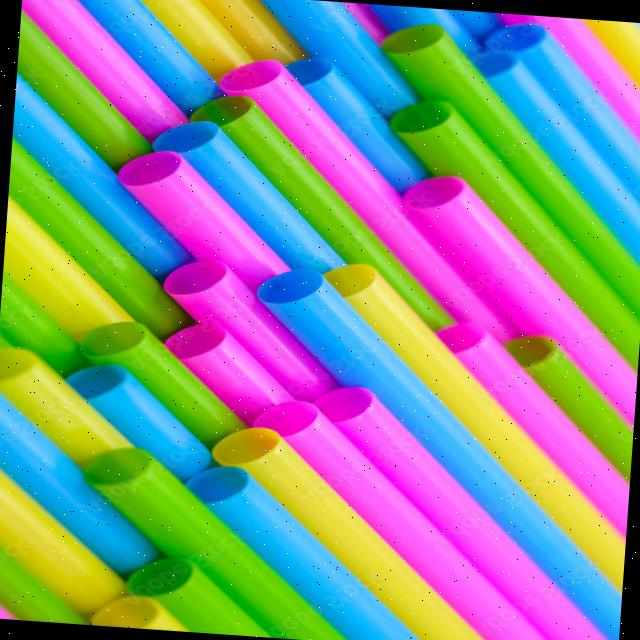plastic: (53, 408, 351, 640)
